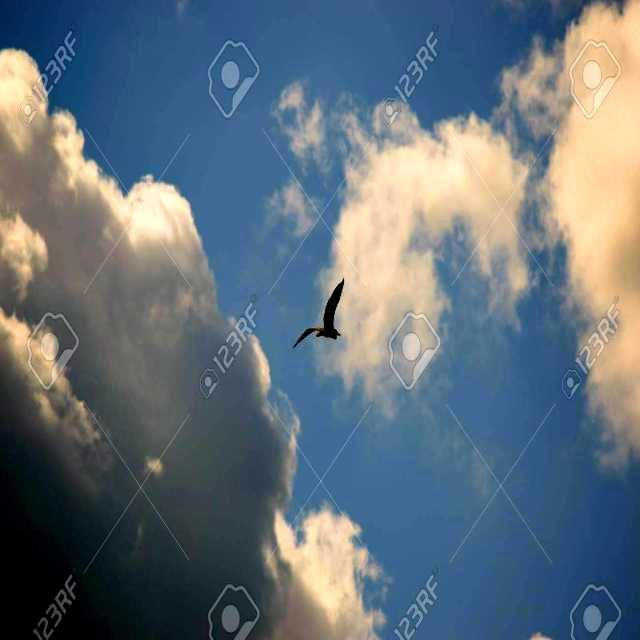bird: (297, 276, 348, 354)
